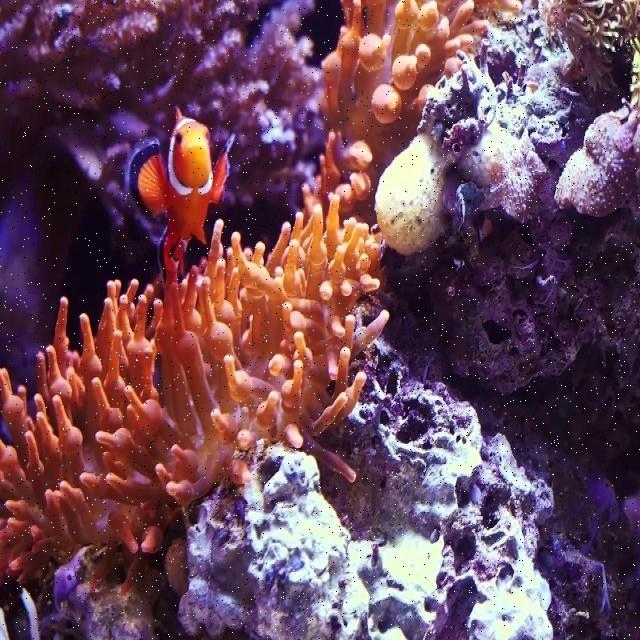fish: (124, 109, 237, 293)
reefs: (0, 1, 521, 595)
sea-floor: (0, 0, 639, 639), (1, 0, 323, 294)
